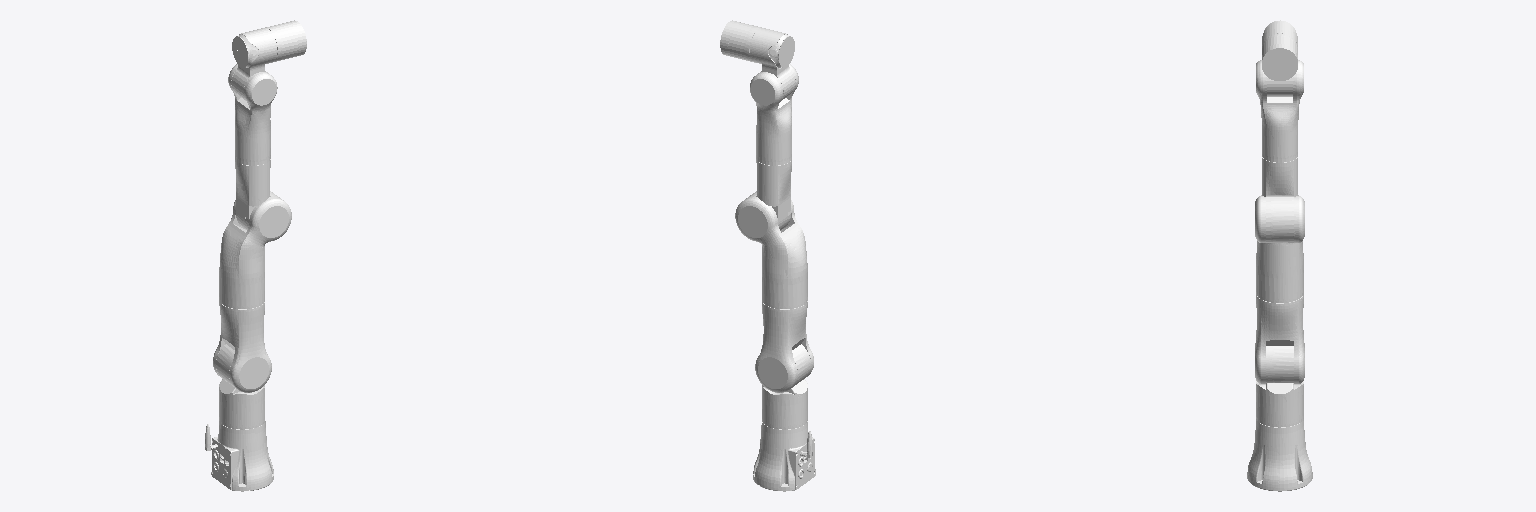
The robot description file, URDF, robot "panda":
<?xml version="1.0" ?>
<!-- =================================================================================== -->
<!-- |    This document was autogenerated by xacro from /opt/ros/noetic/share/franka_description/robots/panda/panda.urdf.xacro | -->
<!-- |    EDITING THIS FILE BY HAND IS NOT RECOMMENDED                                 | -->
<!-- =================================================================================== -->
<robot name="panda">
  <!-- sub-link defining detailed meshes for collision with environment -->
  <link
    name="panda_link0">
    <inertial>
      <origin
        xyz="0.000608631599856789 0.000101410841223995 0.0500536423028974"
        rpy="0 0 0" />
      <mass
        value="0.725732279372378" />
      <inertia
        ixx="0.00116526259312761"
        ixy="3.86984764047093E-06"
        ixz="3.61598634195121E-05"
        iyy="0.00114387939249178"
        iyz="-1.69159565748085E-06"
        izz="0.000799620765266388" />
    </inertial>
    <visual>
      <origin
        xyz="0 0 0"
        rpy="0 0 0" />
      <geometry>
        <mesh
          filename="package://franka_description/robots/meshes_gen/base_link.dae" />
      </geometry>
      <material
        name="">
        <color
          rgba="1 1 1 1" />
      </material>
    </visual>
    <collision>
      <origin
        xyz="0 0 0"
        rpy="0 0 0" />
      <geometry>
        <mesh
          filename="package://franka_description/robots/meshes_gen/base_link.STL" />
      </geometry>
    </collision>
  </link>
  <link
    name="panda_link1">
    <inertial>
      <origin
        xyz="3.54241616240111E-07 -6.0407327765511E-05 -0.0474562076947793"
        rpy="0 0 0" />
      <mass
        value="0.511231576042974" />
      <inertia
        ixx="0.000959440501675413"
        ixy="-1.90967914521862E-09"
        ixz="-7.95751539476377E-09"
        iyy="0.00102039305288465"
        iyz="1.46570590325122E-06"
        izz="0.000388714616194907" />
    </inertial>
    <visual>
      <origin
        xyz="0 0 0"
        rpy="0 0 0" />
      <geometry>
        <mesh
          filename="package://franka_description/robots/meshes_gen/Link1.dae" />
      </geometry>
      <material
        name="">
        <color
          rgba="1 1 1 1" />
      </material>
    </visual>
    <collision>
      <origin
        xyz="0 0 0"
        rpy="0 0 0" />
      <geometry>
        <mesh
          filename="package://franka_description/robots/meshes_gen/Link1.STL" />
      </geometry>
    </collision>
  </link>
  <joint
    name="panda_joint1"
    type="revolute">
    <origin
      xyz="0 0 0.218"
      rpy="0 0 0" />
    <parent
      link="panda_link0" />
    <child
      link="panda_link1" />
    <axis
      xyz="0 0 1" />
    <limit
      lower="-3.0014"
      upper="3.0014"
      effort="25"
      velocity="3.141" />
  </joint>
  <link
    name="panda_link2">
    <inertial>
      <origin
        xyz="-7.09647952406739E-07 -0.0576246216953338 -3.88440270542586E-05"
        rpy="0 0 0" />
      <mass
        value="0.551907023014854" />
      <inertia
        ixx="0.00142140348660833"
        ixy="-1.11203318362369E-08"
        ixz="1.36371990293752E-08"
        iyy="0.00052571427239726"
        iyz="1.30499471891358E-06"
        izz="0.00127234961251408" />
    </inertial>
    <visual>
      <origin
        xyz="0 0 0"
        rpy="0 0 0" />
      <geometry>
        <mesh
          filename="package://franka_description/robots/meshes_gen/Link2.dae" />
      </geometry>
      <material
        name="">
        <color
          rgba="1 1 1 1" />
      </material>
    </visual>
    <collision>
      <origin
        xyz="0 0 0"
        rpy="0 0 0" />
      <geometry>
        <mesh
          filename="package://franka_description/robots/meshes_gen/Link2.STL" />
      </geometry>
    </collision>
  </link>
  <joint
    name="panda_joint2"
    type="revolute">
    <origin
      xyz="0 0 0"
      rpy="-1.5708 0 0" />
    <parent
      link="panda_link1" />
    <child
      link="panda_link2" />
    <axis
      xyz="0 0 1" />
    <limit
      lower="-1.8323"
      upper="1.8323"
      effort="25"
      velocity="3.141" />
  </joint>
  <link
    name="panda_link3">
    <inertial>
      <origin
        xyz="0.00897441376214204 2.62633968732461E-05 -0.07382847021305"
        rpy="0 0 0" />
      <mass
        value="0.774130450031718" />
      <inertia
        ixx="0.00242102073961794"
        ixy="-6.22596416744426E-07"
        ixz="-0.000489521447339786"
        iyy="0.00248694314969312"
        iyz="-1.48542895560703E-06"
        izz="0.000900997189719803" />
    </inertial>
    <visual>
      <origin
        xyz="0 0 0"
        rpy="0 0 0" />
      <geometry>
        <mesh
          filename="package://franka_description/robots/meshes_gen/Link3.dae" />
      </geometry>
      <material
        name="">
        <color
          rgba="1 1 1 1" />
      </material>
    </visual>
    <collision>
      <origin
        xyz="0 0 0"
        rpy="0 0 0" />
      <geometry>
        <mesh
          filename="package://franka_description/robots/meshes_gen/Link3.STL" />
      </geometry>
    </collision>
  </link>
  <joint
    name="panda_joint3"
    type="revolute">
    <origin
      xyz="0 -0.28 0"
      rpy="1.5708 0 0" />
    <parent
      link="panda_link2" />
    <child
      link="panda_link3" />
    <axis
      xyz="0 0 1" />
    <limit
      lower="-3.0014"
      upper="3.0014"
      effort="25"
      velocity="3.141" />
  </joint>
  <link
    name="panda_link4">
    <inertial>
      <origin
        xyz="-0.00962438865086499 0.0352034287339324 0.000174576348464699"
        rpy="0 0 0" />
      <mass
        value="0.437130215853825" />
      <inertia
        ixx="0.000866914153248162"
        ixy="0.000148761646913658"
        ixz="-7.42553547352418E-07"
        iyy="0.000267753002587659"
        iyz="2.68058265485487E-06"
        izz="0.000952324298928136" />
    </inertial>
    <visual>
      <origin
        xyz="0 0 0"
        rpy="0 0 0" />
      <geometry>
        <mesh
          filename="package://franka_description/robots/meshes_gen/Link4.dae" />
      </geometry>
      <material
        name="">
        <color
          rgba="1 1 1 1" />
      </material>
    </visual>
    <collision>
      <origin
        xyz="0 0 0"
        rpy="0 0 0" />
      <geometry>
        <mesh
          filename="package://franka_description/robots/meshes_gen/Link4.STL" />
      </geometry>
    </collision>
  </link>
  <joint
    name="panda_joint4"
    type="revolute">
    <origin
      xyz="0.04 0 0"
      rpy="1.5708 0 0" />
    <parent
      link="panda_link3" />
    <child
      link="panda_link4" />
    <axis
      xyz="0 0 1" />
    <limit
      lower="-2.8792"
      upper="0.9597"
      effort="25"
      velocity="3.141" />
  </joint>
  <link
    name="panda_link5">
    <inertial>
      <origin
        xyz="-4.77956518807332E-07 -3.84737693792594E-05 -0.066955487820054"
        rpy="0 0 0" />
      <mass
        value="0.424276753764529" />
      <inertia
        ixx="0.0011244489011316"
        ixy="7.5662322019411E-09"
        ixz="-1.71276249932628E-08"
        iyy="0.00103382374928123"
        iyz="8.24694417478756E-07"
        izz="0.000274640088277484" />
    </inertial>
    <visual>
      <origin
        xyz="0 0 0"
        rpy="0 0 0" />
      <geometry>
        <mesh
          filename="package://franka_description/robots/meshes_gen/Link5.dae" />
      </geometry>
      <material
        name="">
        <color
          rgba="1 1 1 1" />
      </material>
    </visual>
    <collision>
      <origin
        xyz="0 0 0"
        rpy="0 0 0" />
      <geometry>
        <mesh
          filename="package://franka_description/robots/meshes_gen/Link5.STL" />
      </geometry>
    </collision>
  </link>
  <joint
    name="panda_joint5"
    type="revolute">
    <origin
      xyz="-0.019 0.2525 0"
      rpy="-1.5708 0 0" />
    <parent
      link="panda_link4" />
    <child
      link="panda_link5" />
    <axis
      xyz="0 0 1" />
    <limit
      lower="-3.0014"
      upper="3.0014"
      effort="5"
      velocity="3.926" />
  </joint>
  <link
    name="panda_link6">
    <inertial>
      <origin
        xyz="0.00184221861298974 0.0379763265035087 -9.21090904324278E-05"
        rpy="0 0 0" />
      <mass
        value="0.302793039332829" />
      <inertia
        ixx="0.00014011480503376"
        ixy="-3.00204828273403E-06"
        ixz="-4.58155498966787E-10"
        iyy="0.000132631402640971"
        iyz="7.01344540253995E-10"
        izz="0.000155721320872423" />
    </inertial>
    <visual>
      <origin
        xyz="0 0 0"
        rpy="0 0 0" />
      <geometry>
        <mesh
          filename="package://franka_description/robots/meshes_gen/Link6.dae" />
      </geometry>
      <material
        name="">
        <color
          rgba="1 1 1 1" />
      </material>
    </visual>
    <collision>
      <origin
        xyz="0 0 0"
        rpy="0 0 0" />
      <geometry>
        <mesh
          filename="package://franka_description/robots/meshes_gen/Link6.STL" />
      </geometry>
    </collision>
  </link>
  <joint
    name="panda_joint6"
    type="revolute">
    <origin
      xyz="0 0 0"
      rpy="1.5708 0 0" />
    <parent
      link="panda_link5" />
    <child
      link="panda_link6" />
    <axis
      xyz="0 0 1" />
    <limit
      lower="-1.707"
      upper="1.783"
      effort="5"
      velocity="3.926" />
  </joint>
  <link
    name="panda_link7">
    <inertial>
      <origin
        xyz="0.000199884675729955 -4.25081843764018E-08 -0.0292498694019246"
        rpy="0 0 0" />
      <mass
        value="0.176612671882913" />
      <inertia
        ixx="6.24281233883421E-05"
        ixy="2.55814128580721E-10"
        ixz="-3.1014379202721E-12"
        iyy="6.24291486534025E-05"
        iyz="1.37181281239386E-11"
        izz="8.48642555354654E-05" />
    </inertial>
    <visual>
      <origin
        xyz="0 0 0"
        rpy="0 0 0" />
      <geometry>
        <mesh
          filename="package://franka_description/robots/meshes_gen/Link7.dae" />
      </geometry>
      <material
        name="">
        <color
          rgba="1 1 1 1" />
      </material>
    </visual>
    <collision>
      <origin
        xyz="0 0 0"
        rpy="0 0 0" />
      <geometry>
        <mesh
          filename="package://franka_description/robots/meshes_gen/Link7.STL" />
      </geometry>
    </collision>
  </link>
  <joint
    name="panda_join7"
    type="revolute">
    <origin
      xyz="0.0905 0.067 0"
      rpy="1.5708 0 1.5708" />
    <parent
      link="panda_link6" />
    <child
      link="panda_link7" />
    <axis
      xyz="0 0 1" />
    <limit
      lower="-3.0014"
      upper="3.0014"
      effort="5"
      velocity="3.926" />
  </joint>
  <!-- <link name="panda_link8"/>
  <joint name="panda_joint8" type="fixed">
    <origin rpy="0 0 0" xyz="0 0 0.107"/>
    <parent link="panda_link7"/>
    <child link="panda_link8"/>
  </joint> -->
  <!-- sub-link defining detailed meshes for collision with environment -->
  <!-- Panda hand -->
  <joint name="panda_hand_joint" type="fixed">
    <parent link="panda_link7"/>
    <child link="panda_hand"/>
    <origin rpy="0 0 -0.785398163397" xyz="0 0 0.107"/>
  </joint>
  <link name="panda_hand">
    <visual>
      <geometry>
        <mesh filename="package://franka_description/meshes/visual/hand.dae"/>
      </geometry>
    </visual>
    <collision>
      <geometry>
        <mesh filename="package://franka_description/meshes/collision/hand.stl"/>
      </geometry>
    </collision>
  </link>
  <link name="panda_leftfinger">
    <visual>
      <geometry>
        <mesh filename="package://franka_description/meshes/visual/finger.dae"/>
      </geometry>
    </visual>
    <!-- screw mount -->
    <collision>
      <origin rpy="0 0 0" xyz="0 18.5e-3 11e-3"/>
      <geometry>
        <box size="22e-3 15e-3 20e-3"/>
      </geometry>
    </collision>
    <!-- cartriage sledge -->
    <collision>
      <origin rpy="0 0 0" xyz="0 6.8e-3 2.2e-3"/>
      <geometry>
        <box size="22e-3 8.8e-3 3.8e-3"/>
      </geometry>
    </collision>
    <!-- diagonal finger -->
    <collision>
      <origin rpy="0.5235987755982988 0 0" xyz="0 15.9e-3 28.35e-3"/>
      <geometry>
        <box size="17.5e-3 7e-3 23.5e-3"/>
      </geometry>
    </collision>
    <!-- rubber tip with which to grasp -->
    <collision>
      <origin rpy="0 0 0" xyz="0 7.58e-3 45.25e-3"/>
      <geometry>
        <box size="17.5e-3 15.2e-3 18.5e-3"/>
      </geometry>
    </collision>
  </link>
  <link name="panda_rightfinger">
    <visual>
      <origin rpy="0 0 3.141592653589793" xyz="0 0 0"/>
      <geometry>
        <mesh filename="package://franka_description/meshes/visual/finger.dae"/>
      </geometry>
    </visual>
    <!-- screw mount -->
    <collision>
      <origin rpy="0 0 0" xyz="0 -18.5e-3 11e-3"/>
      <geometry>
        <box size="22e-3 15e-3 20e-3"/>
      </geometry>
    </collision>
    <!-- cartriage sledge -->
    <collision>
      <origin rpy="0 0 0" xyz="0 -6.8e-3 2.2e-3"/>
      <geometry>
        <box size="22e-3 8.8e-3 3.8e-3"/>
      </geometry>
    </collision>
    <!-- diagonal finger -->
    <collision>
      <origin rpy="-0.5235987755982988 0 0" xyz="0 -15.9e-3 28.35e-3"/>
      <geometry>
        <box size="17.5e-3 7e-3 23.5e-3"/>
      </geometry>
    </collision>
    <!-- rubber tip with which to grasp -->
    <collision>
      <origin rpy="0 0 0" xyz="0 -7.58e-3 45.25e-3"/>
      <geometry>
        <box size="17.5e-3 15.2e-3 18.5e-3"/>
      </geometry>
    </collision>
  </link>
  <joint name="panda_finger_joint1" type="prismatic">
    <parent link="panda_hand"/>
    <child link="panda_leftfinger"/>
    <origin rpy="0 0 0" xyz="0 0 0.0584"/>
    <axis xyz="0 1 0"/>
    <limit effort="100" lower="0.0" upper="0.04" velocity="0.2"/>
    <dynamics damping="0.3"/>
  </joint>
  <joint name="panda_finger_joint2" type="prismatic">
    <parent link="panda_hand"/>
    <child link="panda_rightfinger"/>
    <origin rpy="0 0 0" xyz="0 0 0.0584"/>
    <axis xyz="0 -1 0"/>
    <limit effort="100" lower="0.0" upper="0.04" velocity="0.2"/>
    <mimic joint="panda_finger_joint1"/>
    <dynamics damping="0.3"/>
  </joint>
  <joint name="k_ee" type="fixed">
    <parent link="panda_hand"/>
    <child link="k_ee_link"/>
    <origin rpy="0 0 0" xyz="0 0 0.103399"/>
  </joint>
  <link name="k_ee_link">
  </link>
</robot>

--- What the picture shows (computed from the rendered views, not written in the file) ---
The picture shows the robot from 3 angles, left to right: view 1: azimuth 30°, elevation 25°; view 2: azimuth 150°, elevation 25°; view 3: azimuth 270°, elevation 25°; orthographic projection.
Robot: panda — 12 links, 11 joints (7 revolute, 2 prismatic, 2 fixed); root link panda_link0; default pose: every joint at zero.
Links seen in each view (by area): view 1: panda_link3, panda_link0, panda_link2, panda_link5, panda_link1, panda_link6, panda_link4, panda_link7; view 2: panda_link3, panda_link0, panda_link2, panda_link5, panda_link1, panda_link6, panda_link4, panda_link7; view 3: panda_link3, panda_link0, panda_link1, panda_link5, panda_link2, panda_link4, panda_link7, panda_link6.
Link boxes in pixels (x1,y1,x2,y2): panda_link3: [219, 197, 291, 308]; panda_link0: [205, 421, 273, 491]; panda_link2: [213, 300, 271, 392]; panda_link5: [228, 64, 277, 165]; panda_link1: [216, 344, 264, 429]; panda_link6: [231, 28, 277, 100]; panda_link4: [235, 159, 279, 229]; panda_link7: [265, 20, 306, 61]; panda_link3: [735, 197, 807, 308]; panda_link0: [753, 421, 815, 491]; panda_link2: [755, 301, 813, 392]; panda_link5: [750, 64, 798, 165]; panda_link1: [762, 344, 810, 429]; panda_link6: [750, 28, 795, 100]; panda_link4: [746, 159, 791, 230]; panda_link7: [720, 20, 761, 61]; panda_link3: [1255, 195, 1304, 302]; panda_link0: [1247, 419, 1312, 491]; panda_link1: [1256, 346, 1303, 427]; panda_link5: [1256, 60, 1303, 162]; panda_link2: [1255, 295, 1304, 383]; panda_link4: [1262, 157, 1297, 242]; panda_link7: [1262, 33, 1297, 80]; panda_link6: [1262, 20, 1297, 96].
Size in the robot's own frame: 0.1763 by 0.11 by 0.8487 metres.
8 mesh visuals loaded from 10 distinct referenced files (8 Collada DAE); not drawn: 3 (reference not matched to a file when rendering).